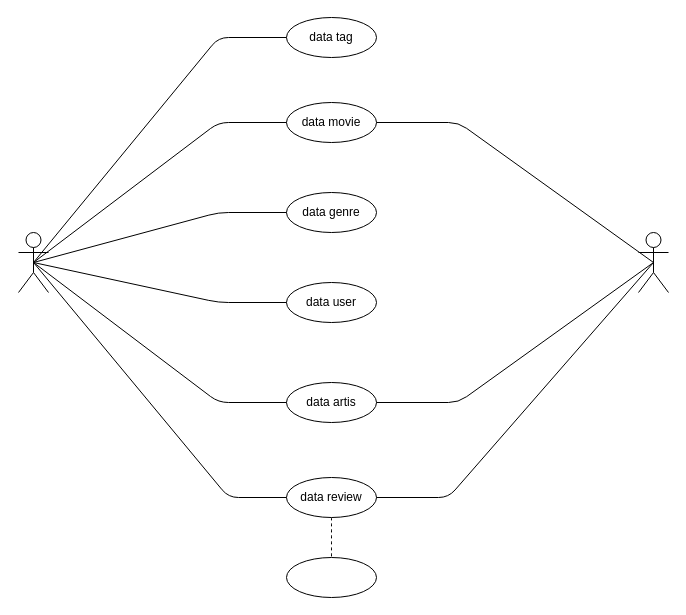
Some shapes in this 686 by 615 pixel diagram are drawn without their labels. Here are the shapes that lost their labels. From the top down, the centre of each, then its label:
[33,262]: admin
[653,262]: users
[331,577]: login
